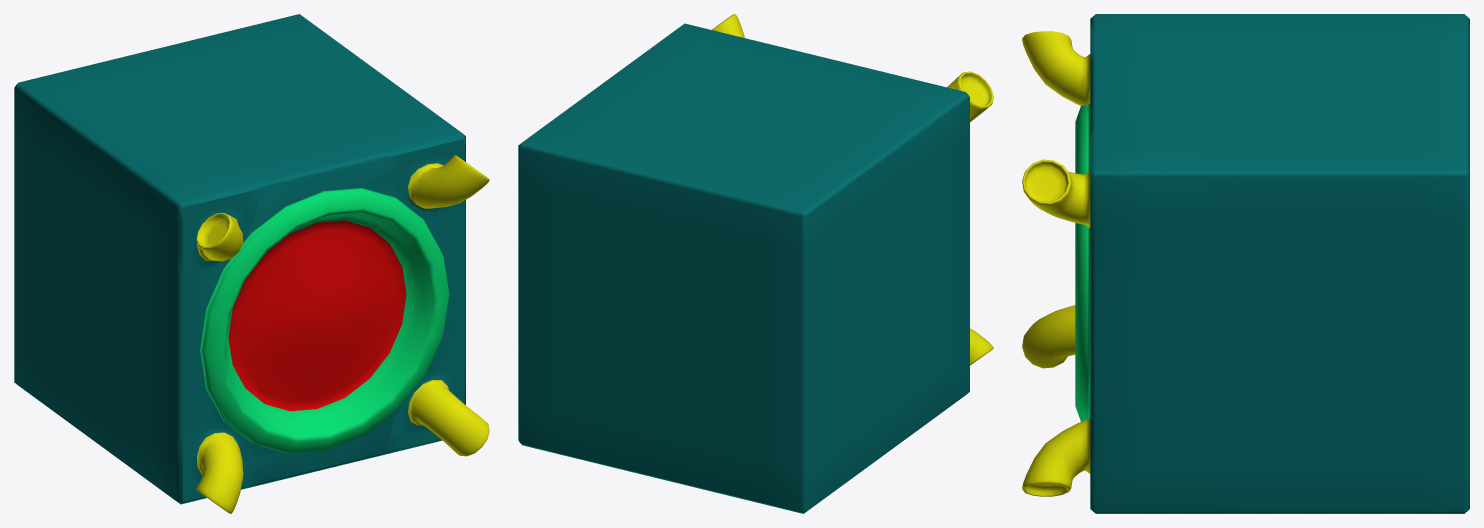
The model's file is clear_block.fbx.
3 views of the same model, side by side, from view 1: azimuth 30°, elevation 25°; view 2: azimuth 150°, elevation 25°; view 3: azimuth 270°, elevation 25° (orthographic). The views are drawn at different scales.
Visible parts, largest first — view 1: cleae_block; view 2: cleae_block; view 3: cleae_block.
Boxes of the visible parts, x1,y1,x2,y2 form: cleae_block: (14, 14, 489, 513); cleae_block: (518, 14, 993, 513); cleae_block: (1022, 14, 1469, 513).
Size of the model in its own units: 1 by 1 by 1.18.
